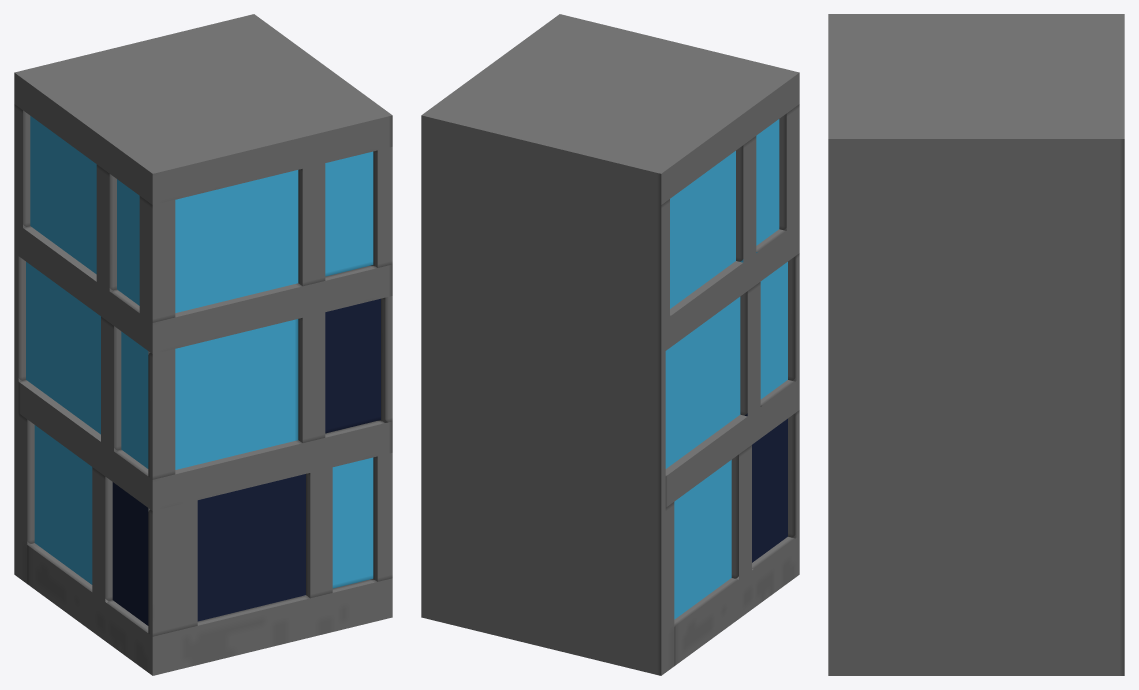
File: PODWUJNA_SCIANA.dae
3 renders of one model, left to right at view 1: azimuth 30°, elevation 25°; view 2: azimuth 150°, elevation 25°; view 3: azimuth 270°, elevation 25°, orthographic. The views are drawn at different scales.
Visible parts, largest first — view 1: Content; view 2: Content; view 3: Content.
Part boxes in pixels (bbox=[...]): Content: bbox=[14, 14, 392, 675]; Content: bbox=[421, 14, 799, 675]; Content: bbox=[828, 14, 1124, 675].
Size of the model in its own units: 32 by 64 by 32.
1 material, 1 textured.
